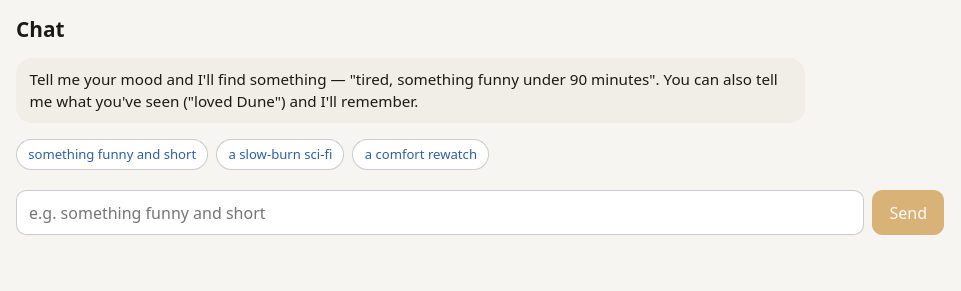
Test case: Chat write actions › streams the reply text into the agent bubble
The width and height of the screenshot is (961, 291).
Type "something to watch" into the field with test id "chat-input" at (440, 213), box [16,190,864,235]
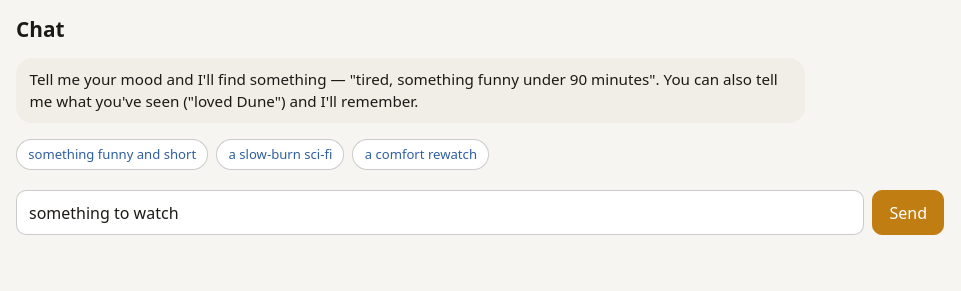
Click the button with test id "chat-send" at (908, 213), box [872,190,944,235]
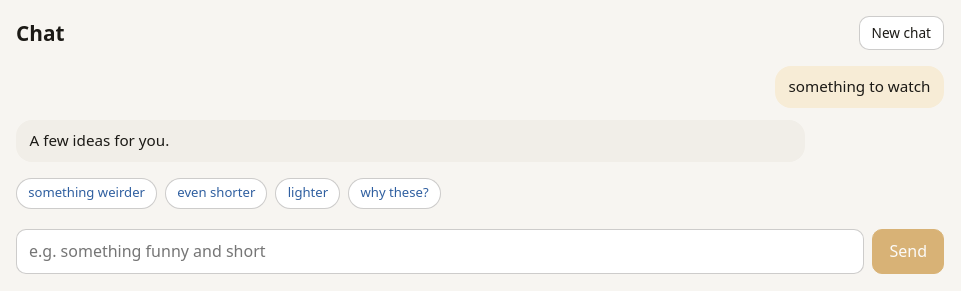
Now the text "A few ideas for you." is shown, box [30,130,169,150]
